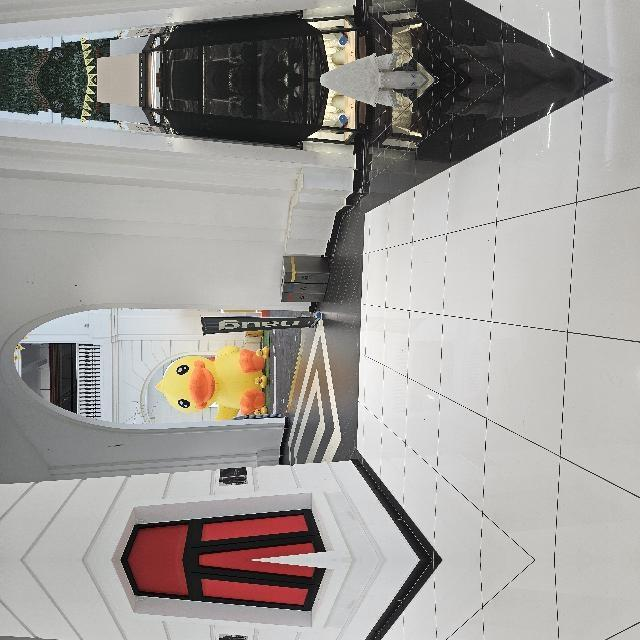obstacle: (412, 207, 481, 525), (142, 234, 220, 350), (223, 277, 250, 407), (411, 595, 480, 640), (257, 358, 305, 410)
